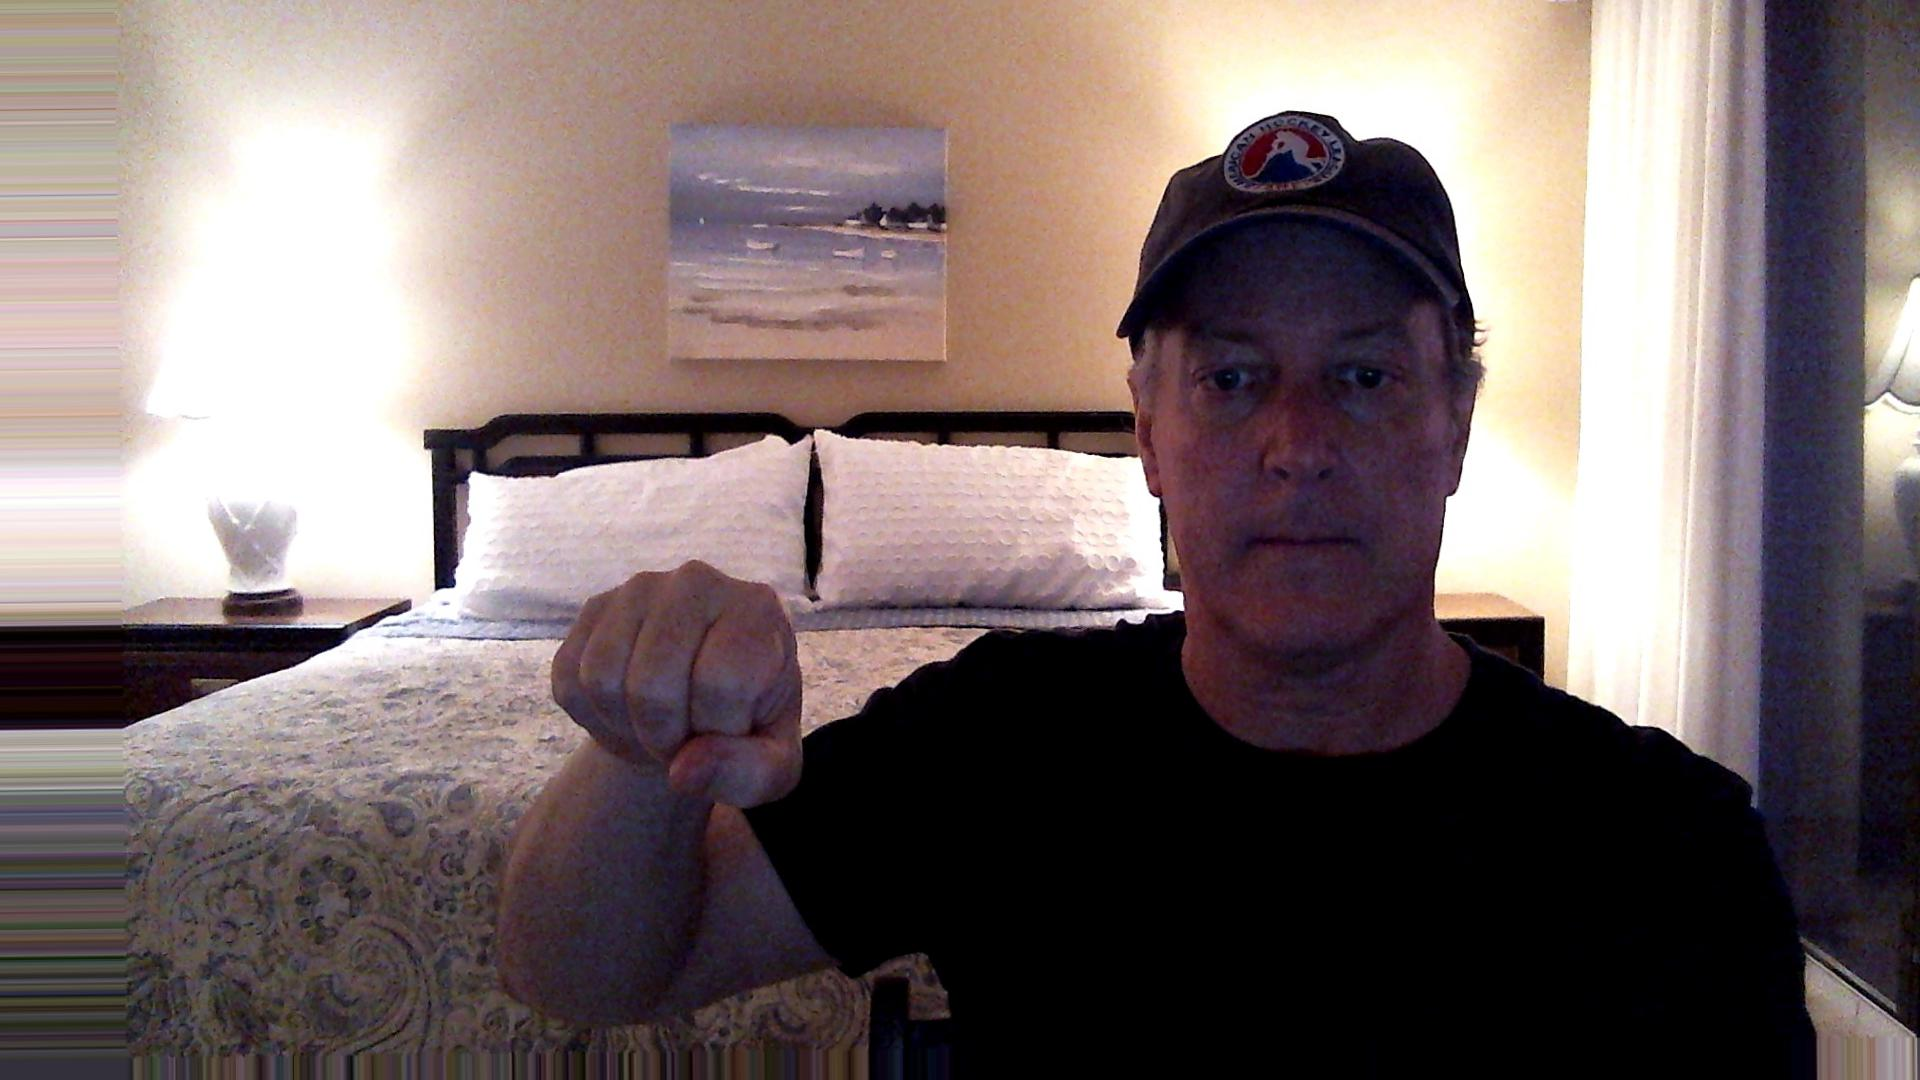Yes: (527, 556, 845, 840)
